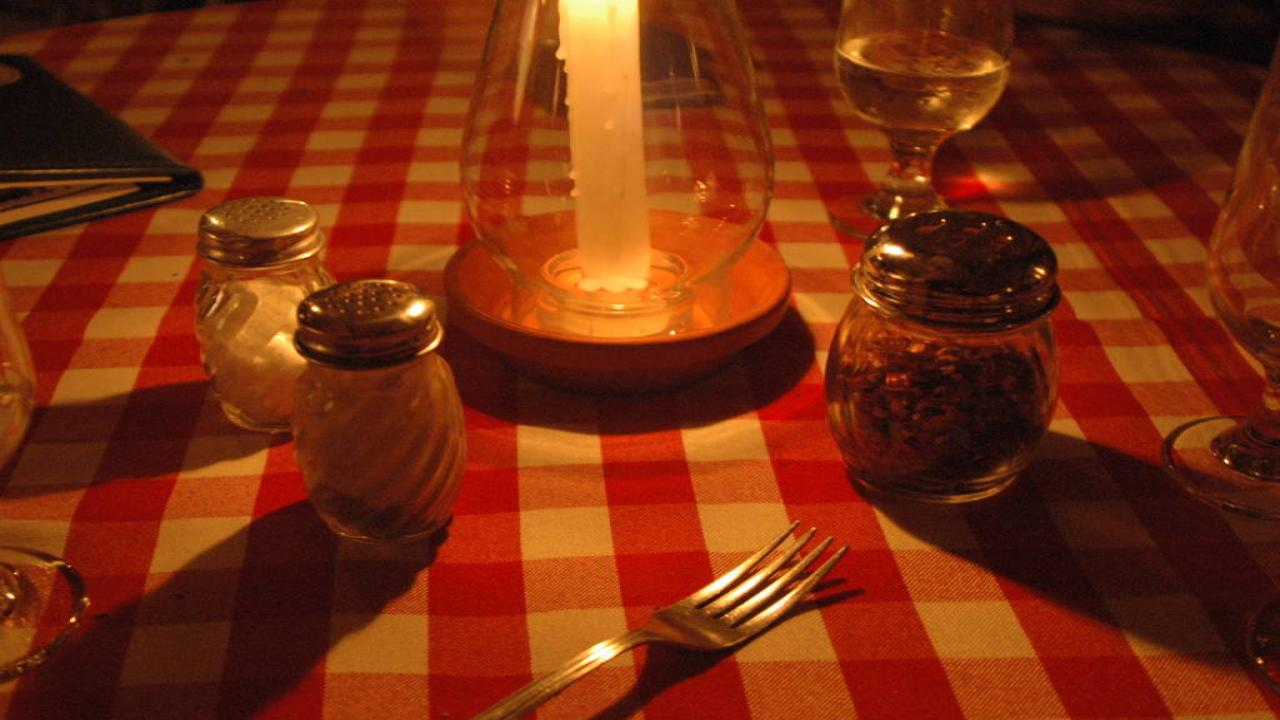fork: (481, 522, 851, 720)
